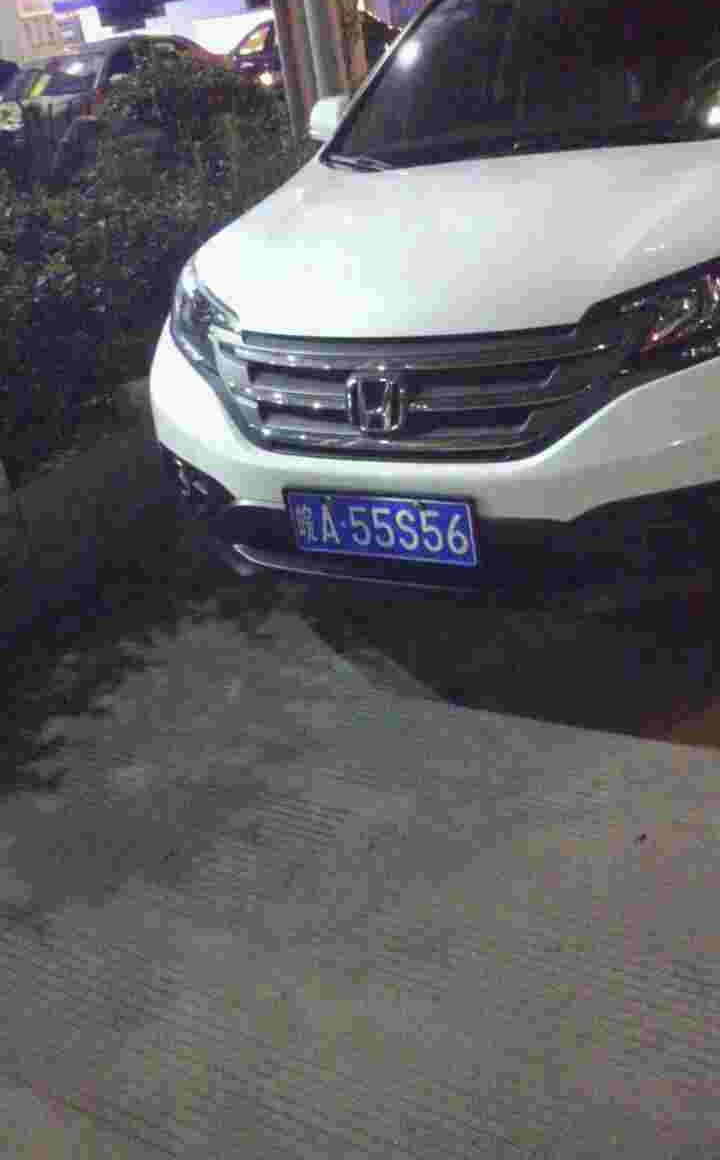car: (279, 486, 485, 565)
